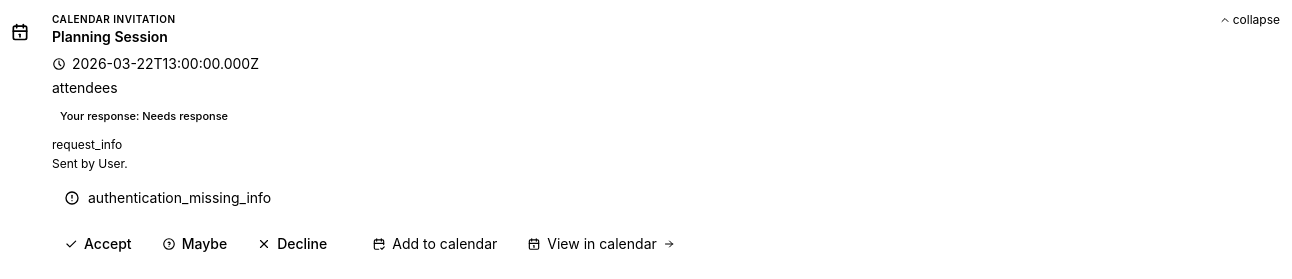
Test case: CalendarInvitationBanner › keeps the invitation summary visible after importing
The width and height of the screenshot is (1292, 279).
expect the heading "Planning Session" is shown: met, box [52,28,168,45]
Click the button "Add to calendar" at (435, 244), box [360,226,509,262]
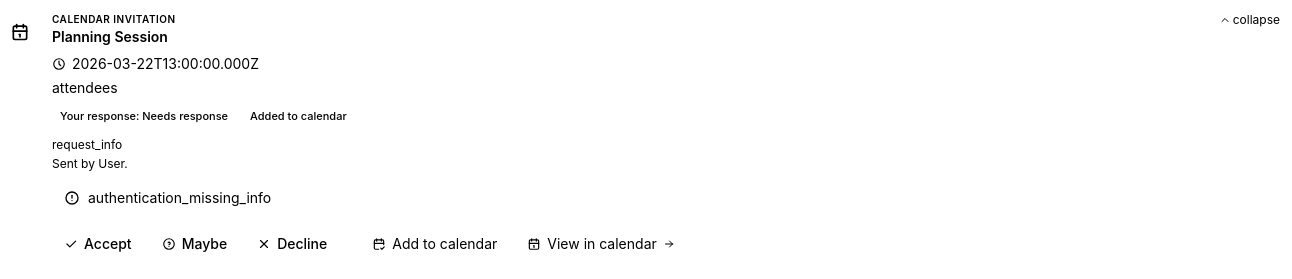
expect the heading "Planning Session" is shown: met, box [52,28,168,45]
expect the text "Added to calendar" is shown: met, box [242,106,355,127]
